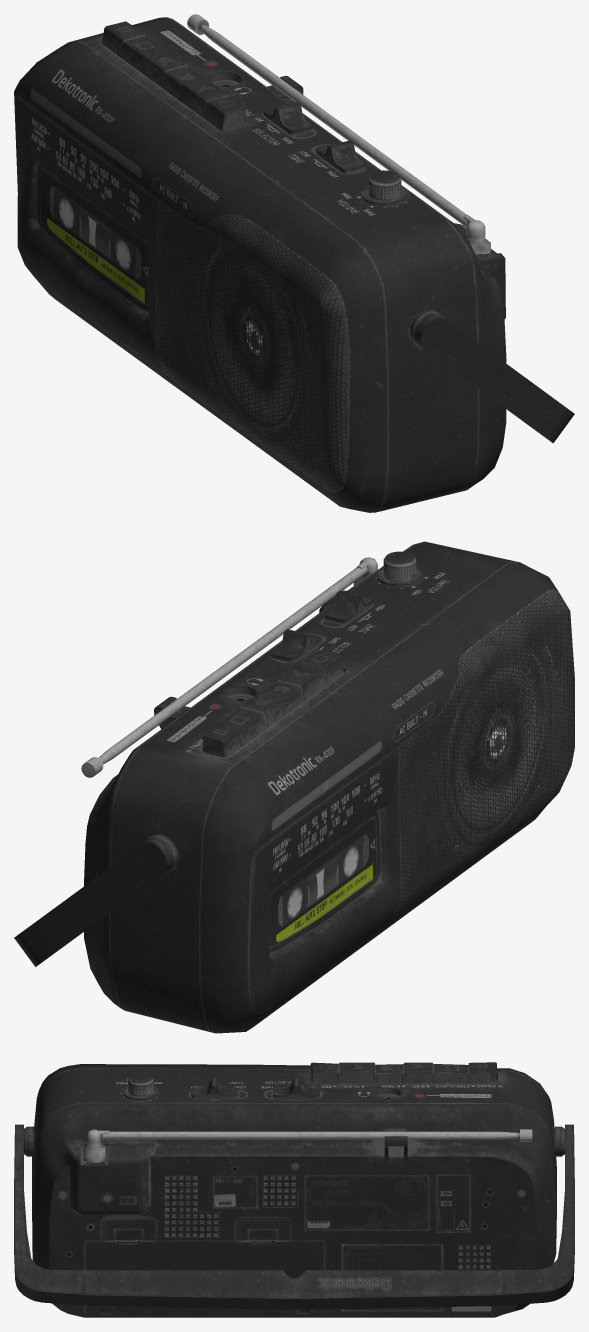
File: SM_Radio_01a.fbx
The picture shows the model from 3 angles, top to bottom: view 1: azimuth 30°, elevation 25°; view 2: azimuth 150°, elevation 25°; view 3: azimuth 270°, elevation 25°; orthographic projection. The views are drawn at different scales.
Parts seen in each view (by area): view 1: SM_Radio_01a_LOD0; view 2: SM_Radio_01a_LOD0; view 3: SM_Radio_01a_LOD0.
Part boxes in pixels (<box>): SM_Radio_01a_LOD0: <box>14,14,574,512</box>; SM_Radio_01a_LOD0: <box>14,541,574,1033</box>; SM_Radio_01a_LOD0: <box>14,1062,574,1317</box>.
Size of the model in its own units: 15.67 by 40.32 by 17.43.
1 material, 1 textured.
